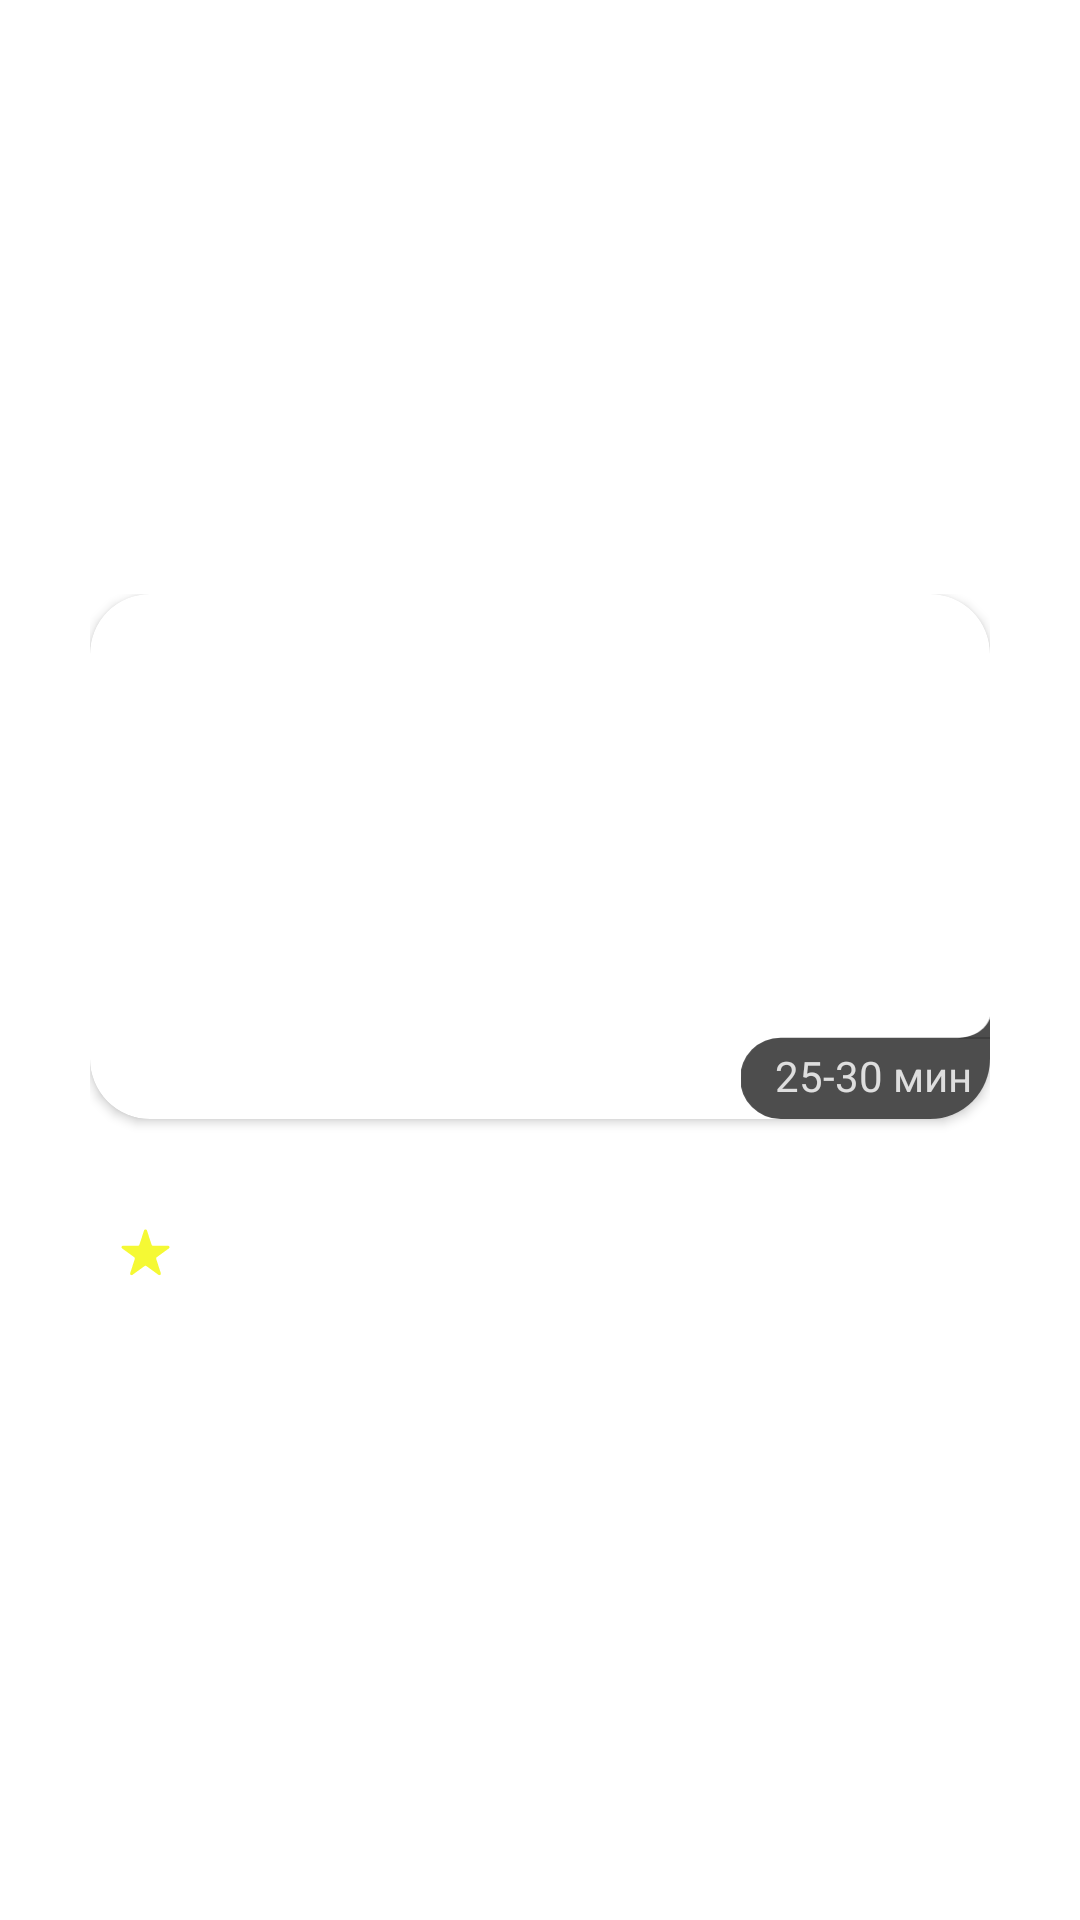

Icon bounding boxes for this 1080×1920 phone screenshot, format region(x1, y1, x2, y2):
star: region(121, 1229, 170, 1275)
